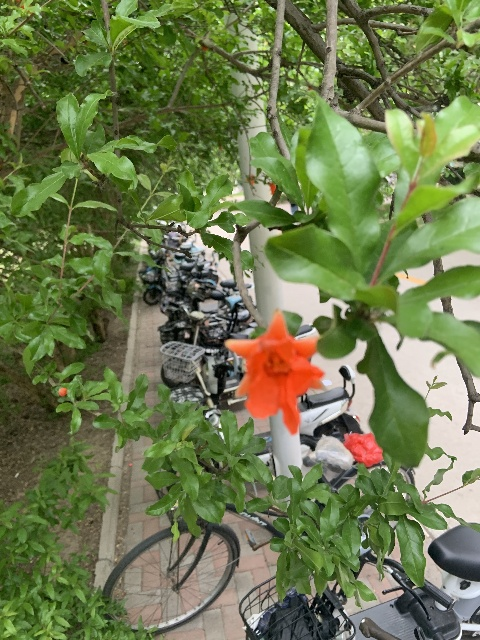bud: (58, 387, 67, 396)
flower: (225, 310, 325, 435), (269, 183, 275, 194)
